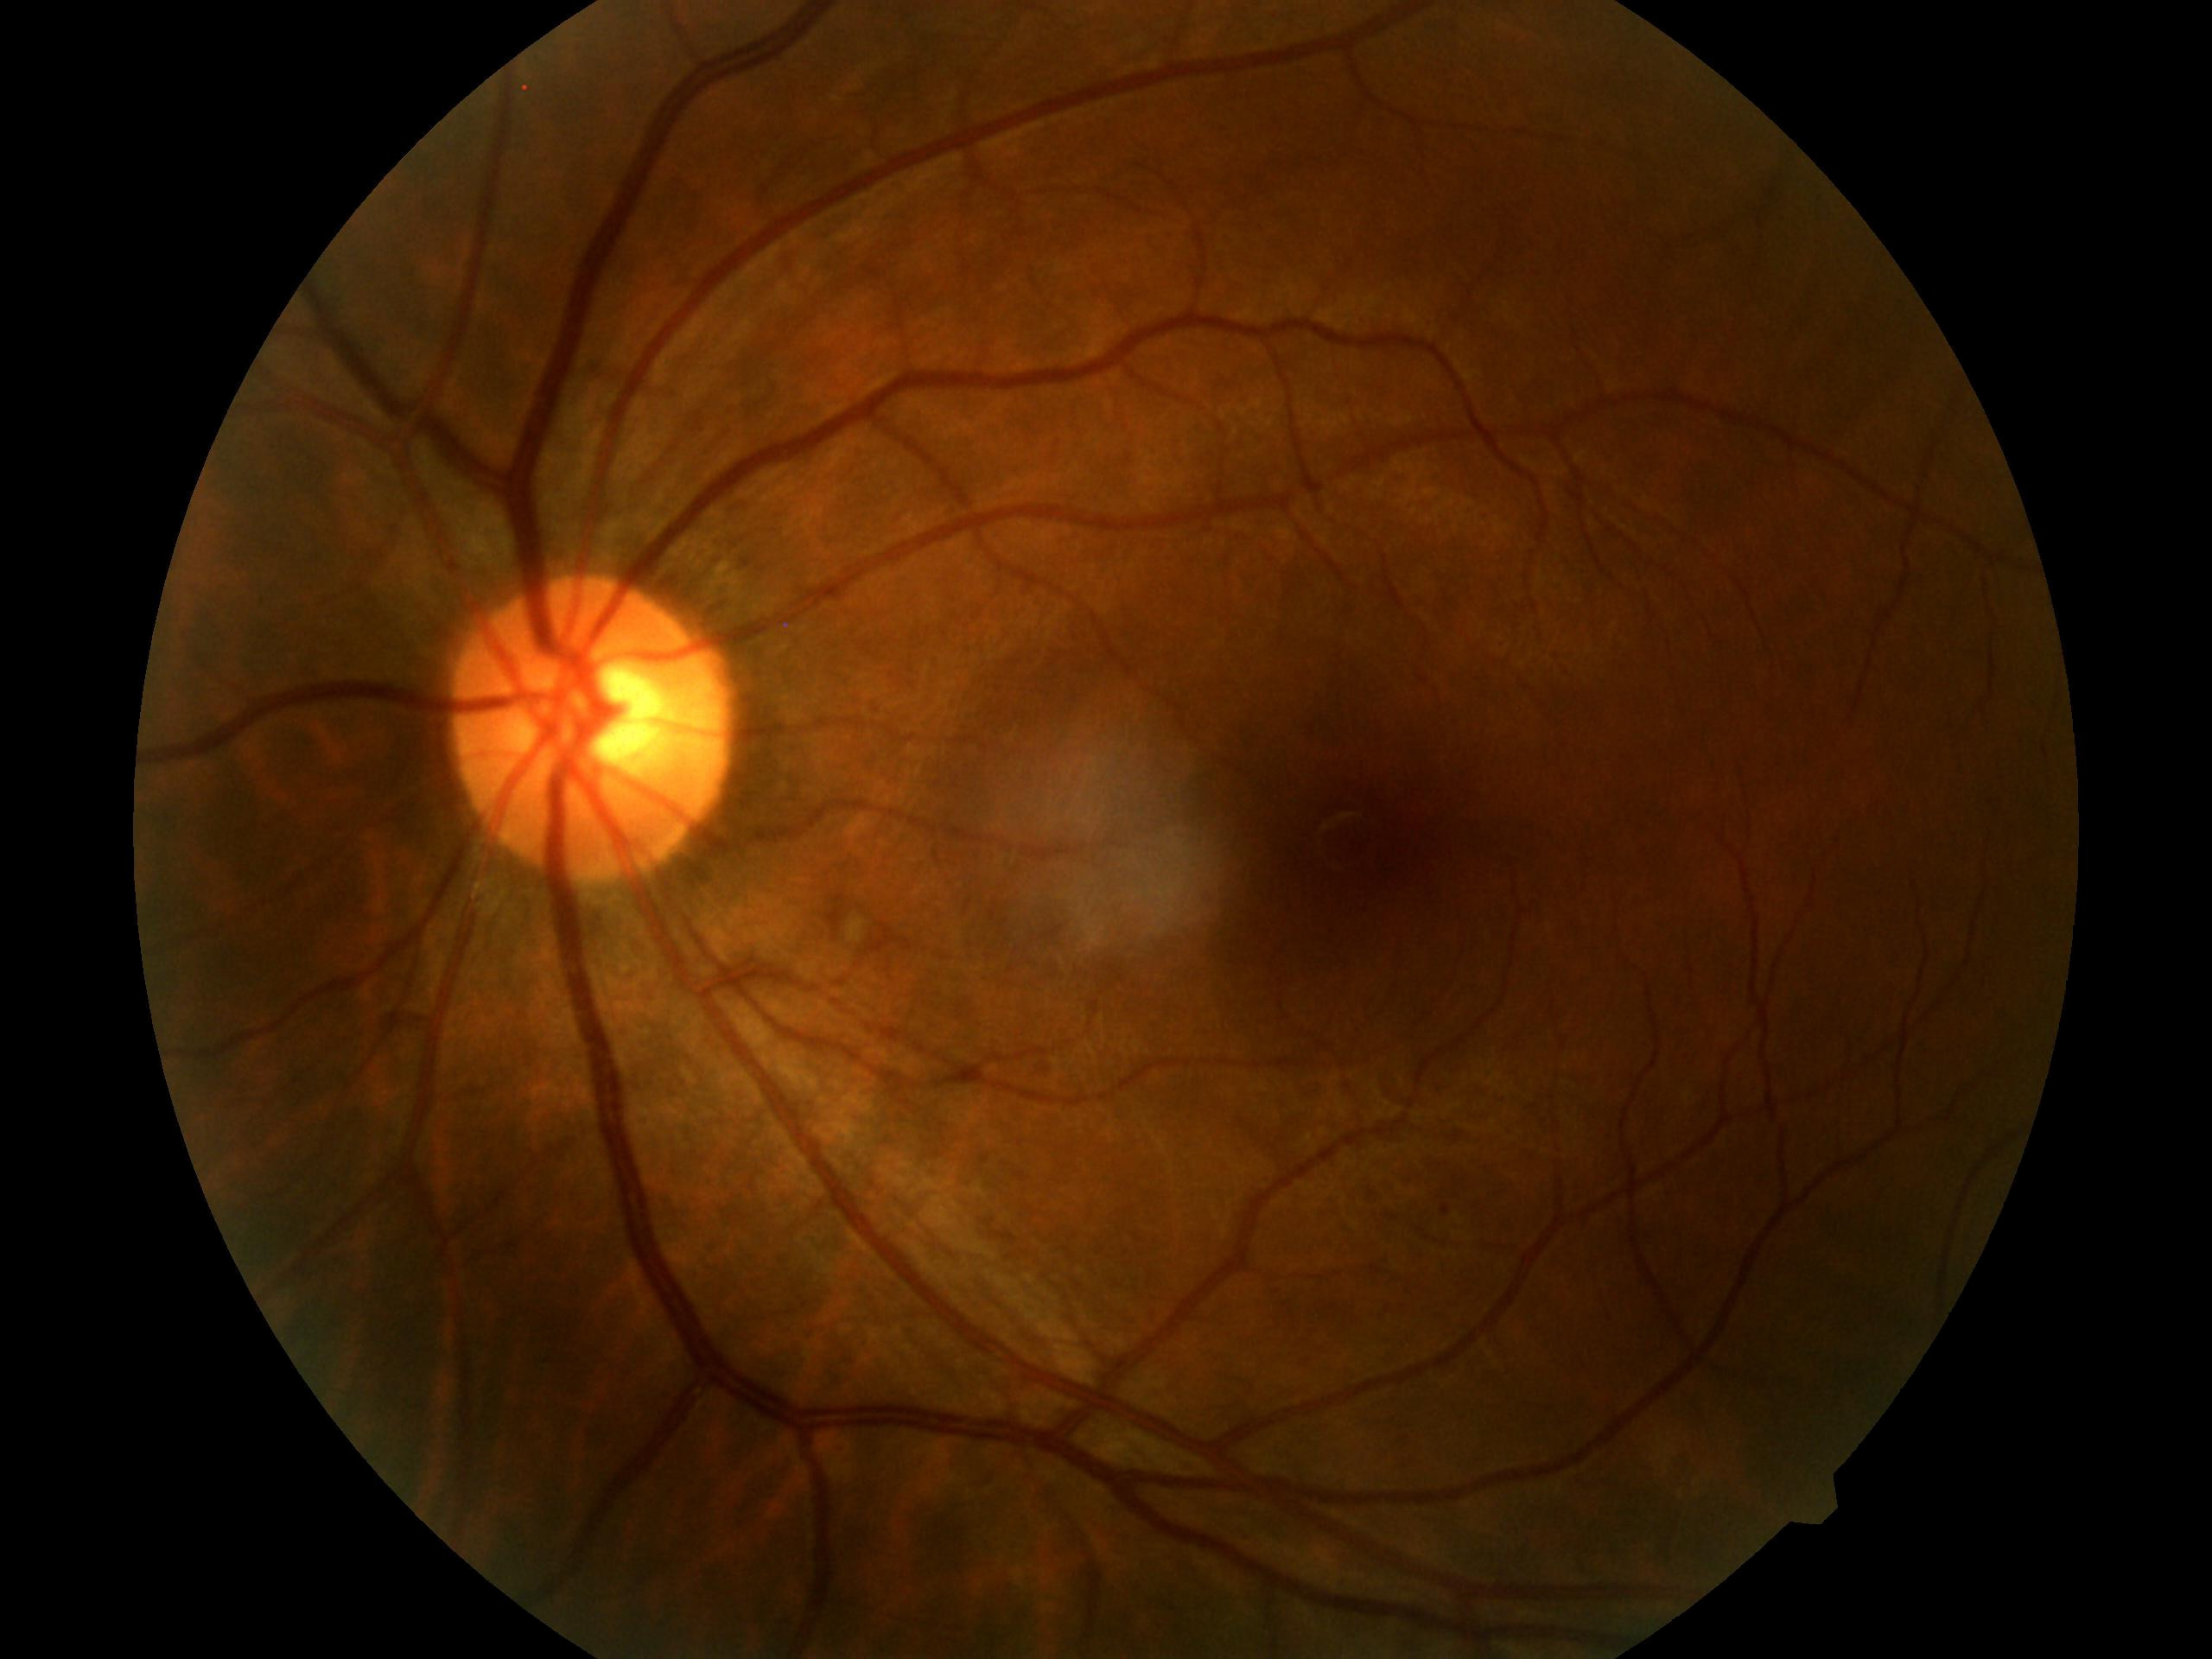Fovea: (1264, 762, 1487, 974)
OD: (420, 558, 751, 908)
